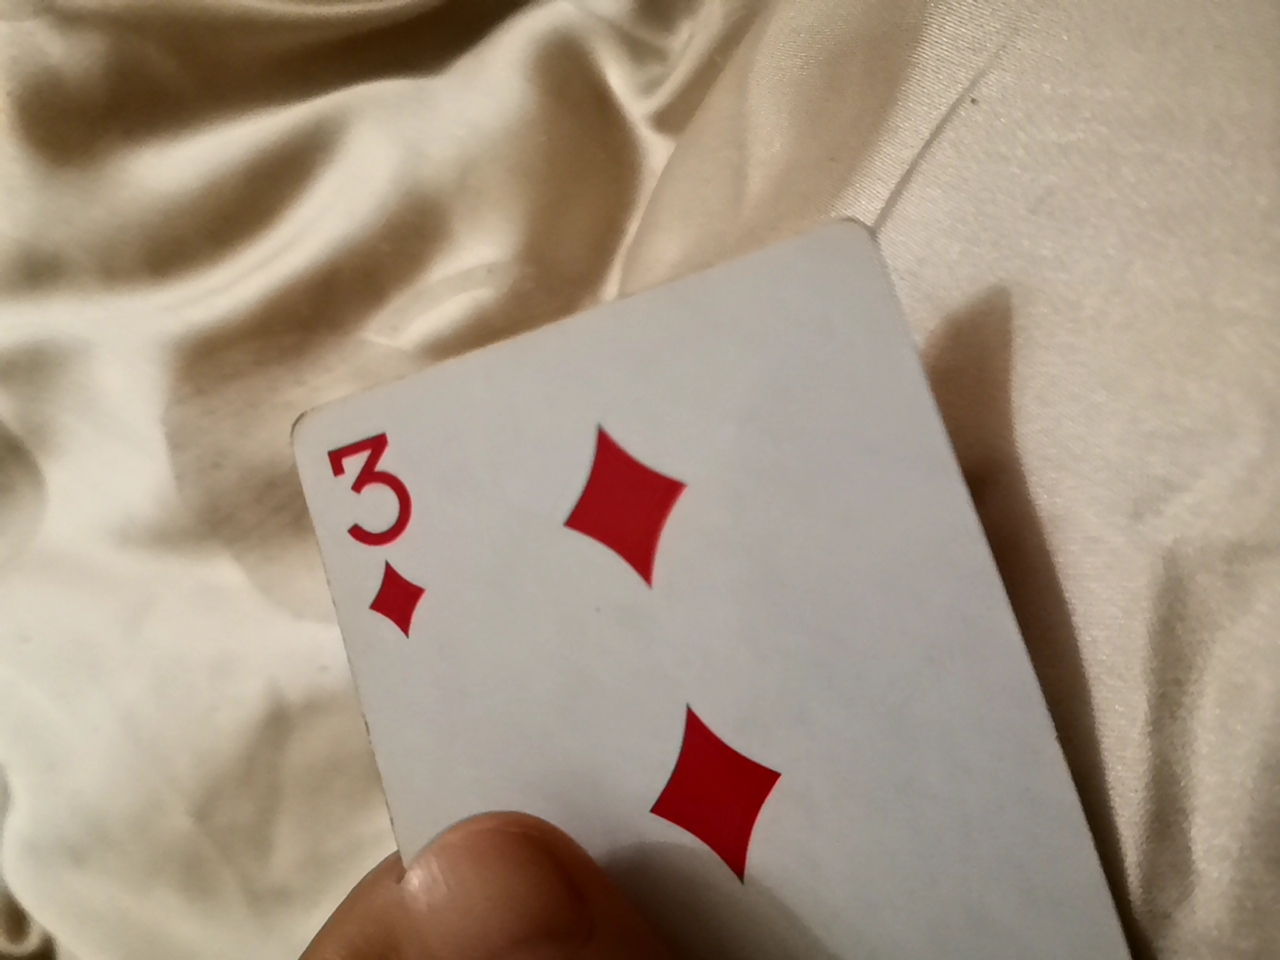fk 3: (215, 186, 1215, 952)
